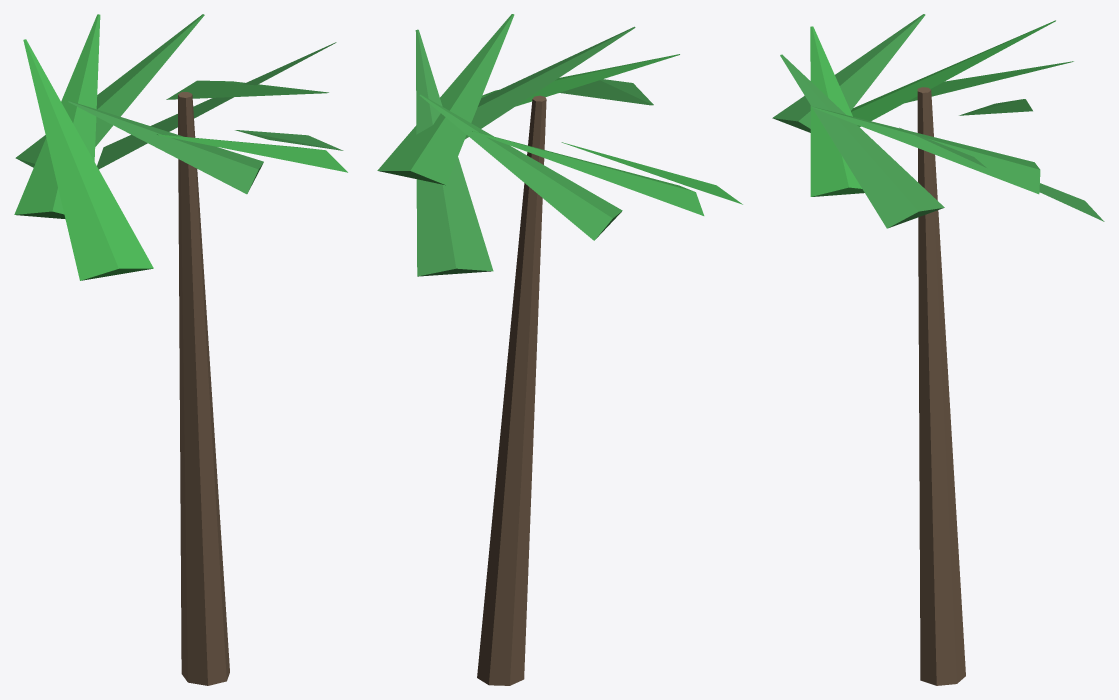
The model's file is tree_palm_10.glb.
The picture shows the model from 3 angles, left to right: view 1: azimuth 30°, elevation 25°; view 2: azimuth 150°, elevation 25°; view 3: azimuth 270°, elevation 25°; orthographic projection. The views are drawn at different scales.
Parts seen in each view (by area): view 1: Trunk, Cone.004, Cone.003, Cone.005, Cone.002, Cone.006, Cone.001, Cone, Cone.007; view 2: Trunk, Cone.001, Cone, Cone.002, Cone.003, Cone.007, Cone.006, Cone.005, Cone.004; view 3: Trunk, Cone.007, Cone.006, Cone, Cone.005, Cone.004, Cone.003, Cone.001, Cone.002.
Boxes of the visible parts, bbox=[...] form: Trunk: bbox=[178, 92, 229, 685]; Cone.004: bbox=[23, 39, 153, 280]; Cone.003: bbox=[14, 14, 100, 218]; Cone.005: bbox=[68, 101, 263, 194]; Cone.002: bbox=[15, 14, 204, 167]; Cone.006: bbox=[157, 134, 347, 172]; Cone.001: bbox=[97, 42, 336, 169]; Cone: bbox=[166, 80, 328, 99]; Cone.007: bbox=[235, 130, 343, 150]; Trunk: bbox=[477, 95, 546, 685]; Cone.001: bbox=[415, 29, 493, 276]; Cone: bbox=[377, 14, 514, 185]; Cone.002: bbox=[419, 94, 622, 240]; Cone.003: bbox=[472, 131, 704, 215]; Cone.007: bbox=[465, 26, 635, 139]; Cone.006: bbox=[481, 54, 679, 106]; Cone.005: bbox=[560, 79, 653, 105]; Cone.004: bbox=[561, 142, 742, 204]; Trunk: bbox=[917, 87, 965, 685]; Cone.007: bbox=[780, 54, 944, 228]; Cone.006: bbox=[810, 26, 864, 196]; Cone: bbox=[812, 107, 1040, 194]; Cone.005: bbox=[772, 14, 925, 132]; Cone.004: bbox=[851, 20, 1055, 127]; Cone.003: bbox=[905, 61, 1073, 102]; Cone.001: bbox=[899, 127, 1104, 221]; Cone.002: bbox=[959, 99, 1032, 115].
Bounding box in the file's own units: 3.9 × 7.48 × 3.77.
